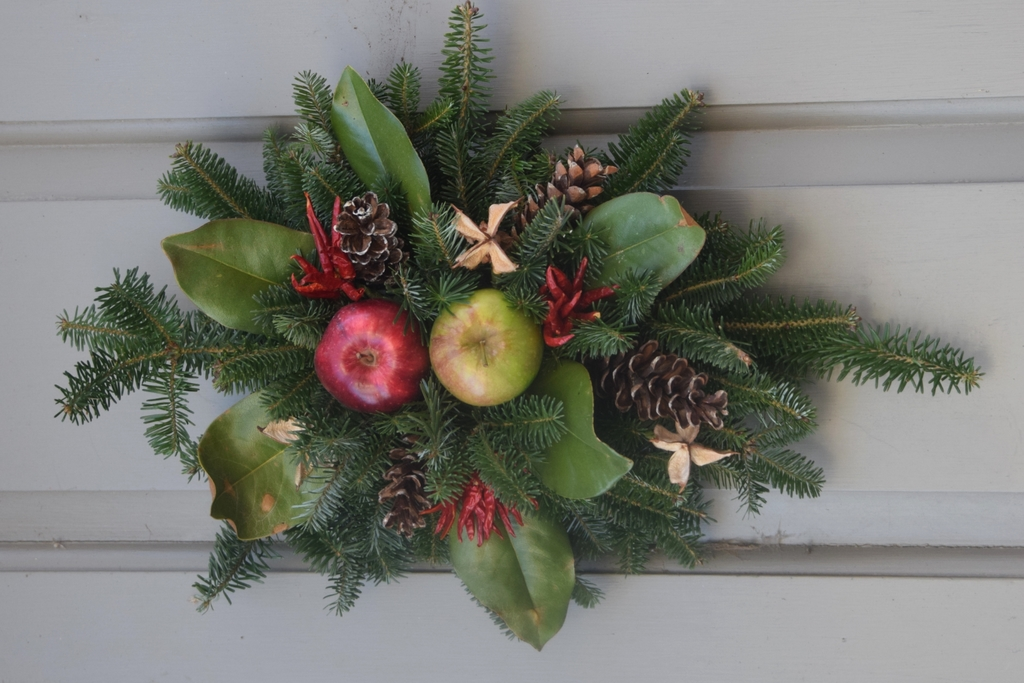Apple: (424, 289, 545, 409), (316, 296, 421, 429)
